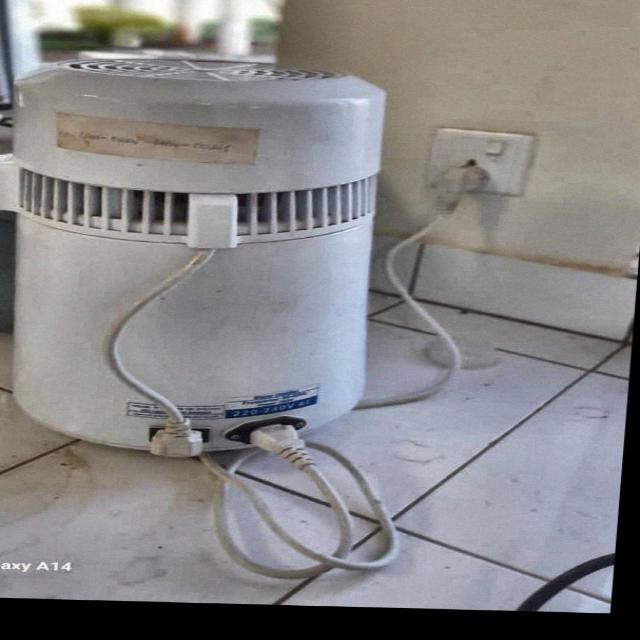Distilled Water Maker: (0, 50, 418, 470)
